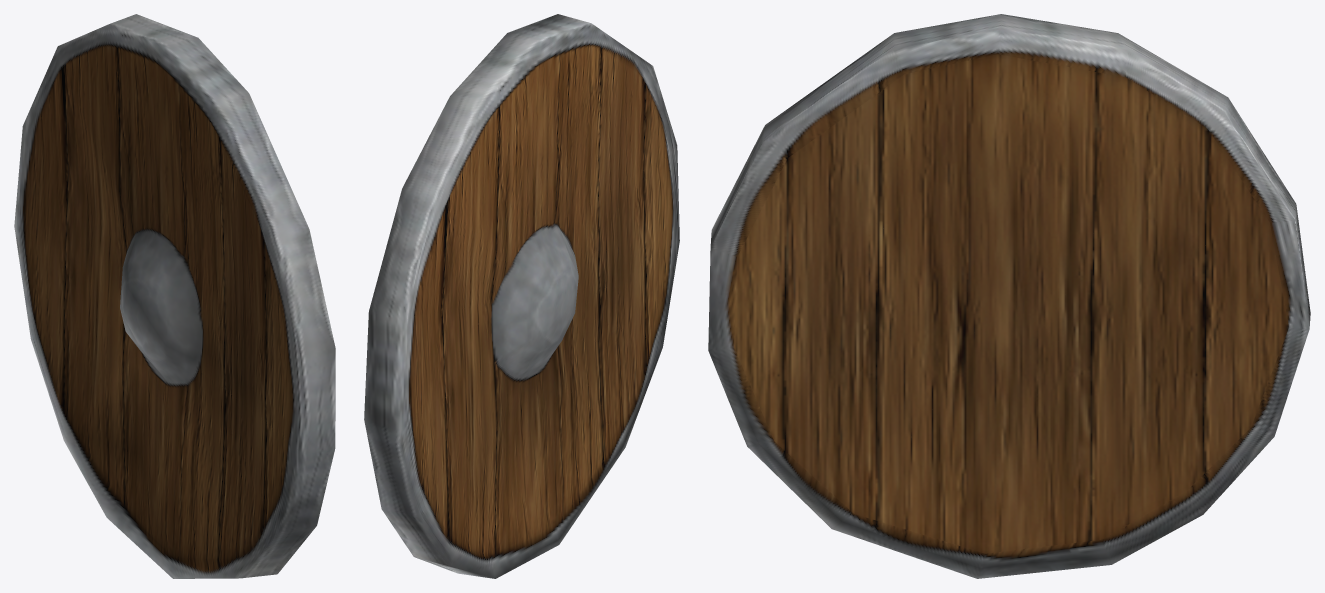
File: shield.FBX
3 renders of one model, left to right at view 1: azimuth 30°, elevation 25°; view 2: azimuth 150°, elevation 25°; view 3: azimuth 270°, elevation 25°, orthographic. The views are drawn at different scales.
Visible parts, largest first — view 1: shield; view 2: shield; view 3: shield.
Boxes of the visible parts, left/top/right/bottom form: shield: left=14, top=14, right=335, bottom=578; shield: left=364, top=14, right=679, bottom=578; shield: left=708, top=14, right=1310, bottom=578.
Bounding box in the file's own units: 1.84 × 14.98 × 14.85.
